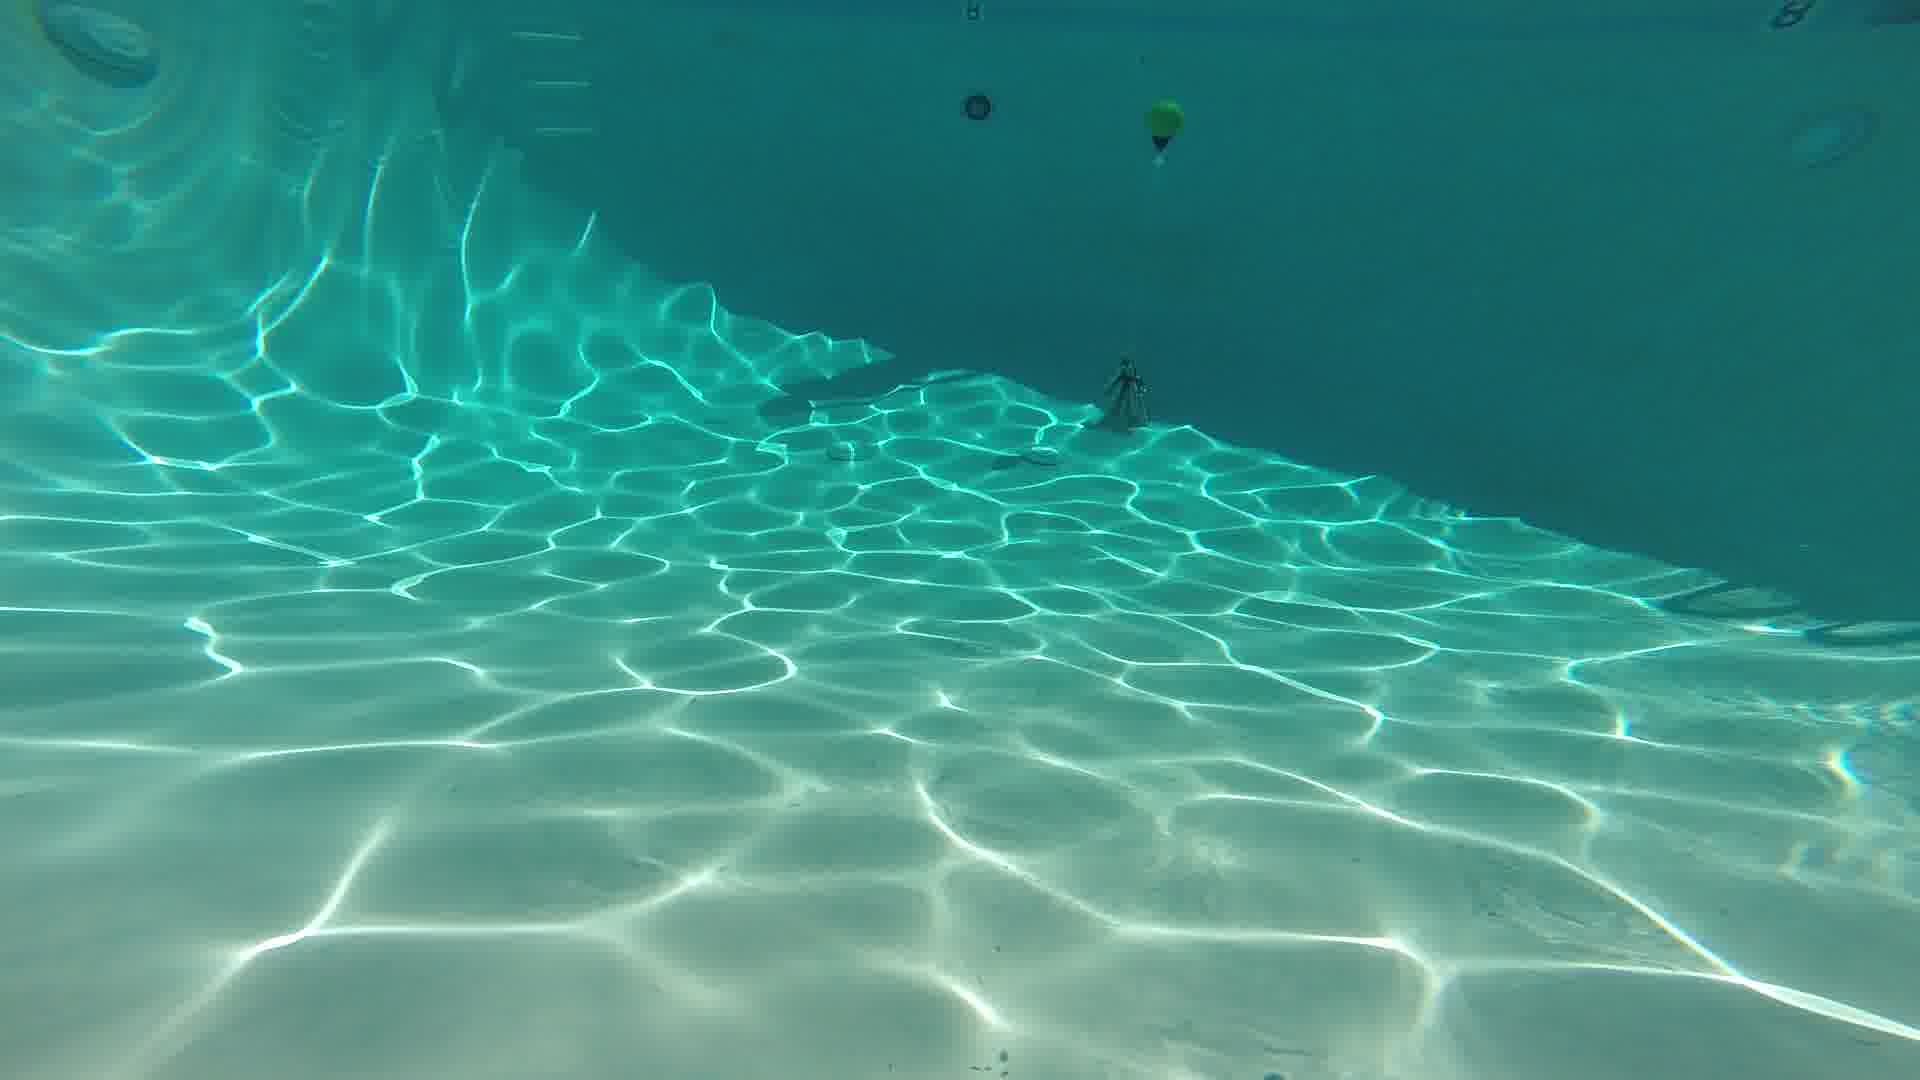yellow buoy: (1142, 94, 1185, 160)
